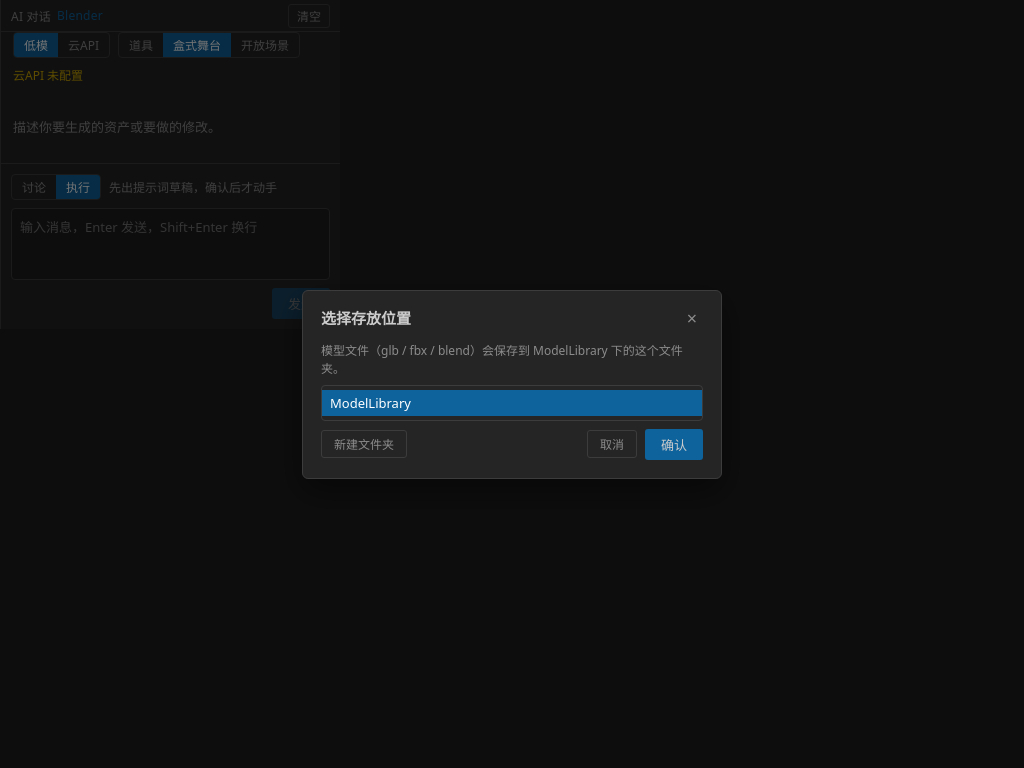
Test case: ChatPanel › keeps the folder picker open when the backend rejects the path
What coordinates should you click on to do the following:
click the button "确认"
I would click on:
 (674, 444)
Its box is [645,428,703,460].
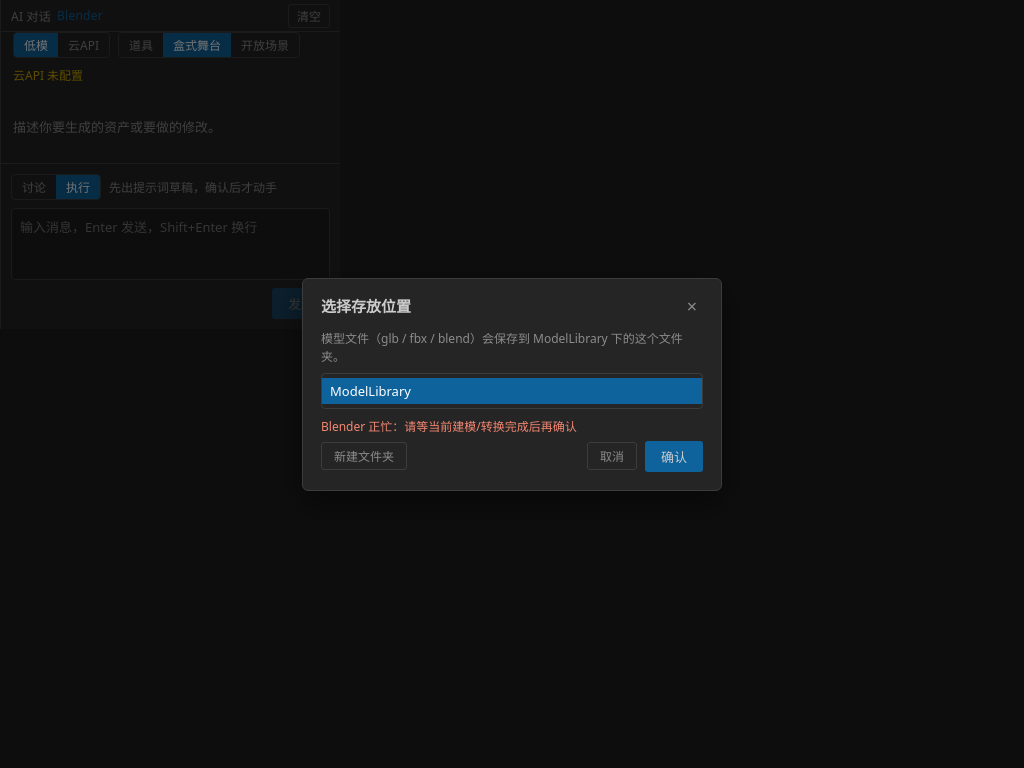
Check: the dialog with class "folder-picker" is shown, box [302,278,722,490]
Check: the text "Blender 正忙：请等当前建模/转换完成后再确认" is shown, box [321,418,577,434]
